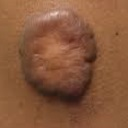Keloids: (22, 10, 97, 99)
